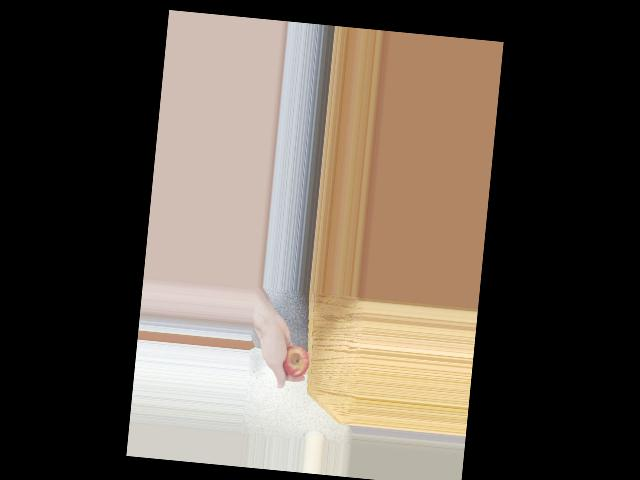apple: (278, 342, 311, 379)
